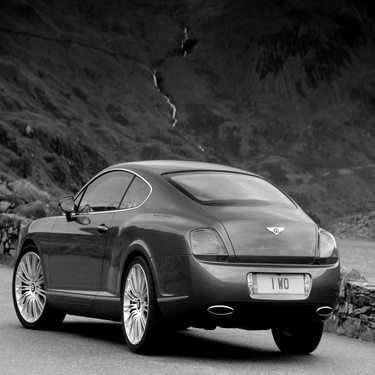car: (3, 154, 346, 358)
